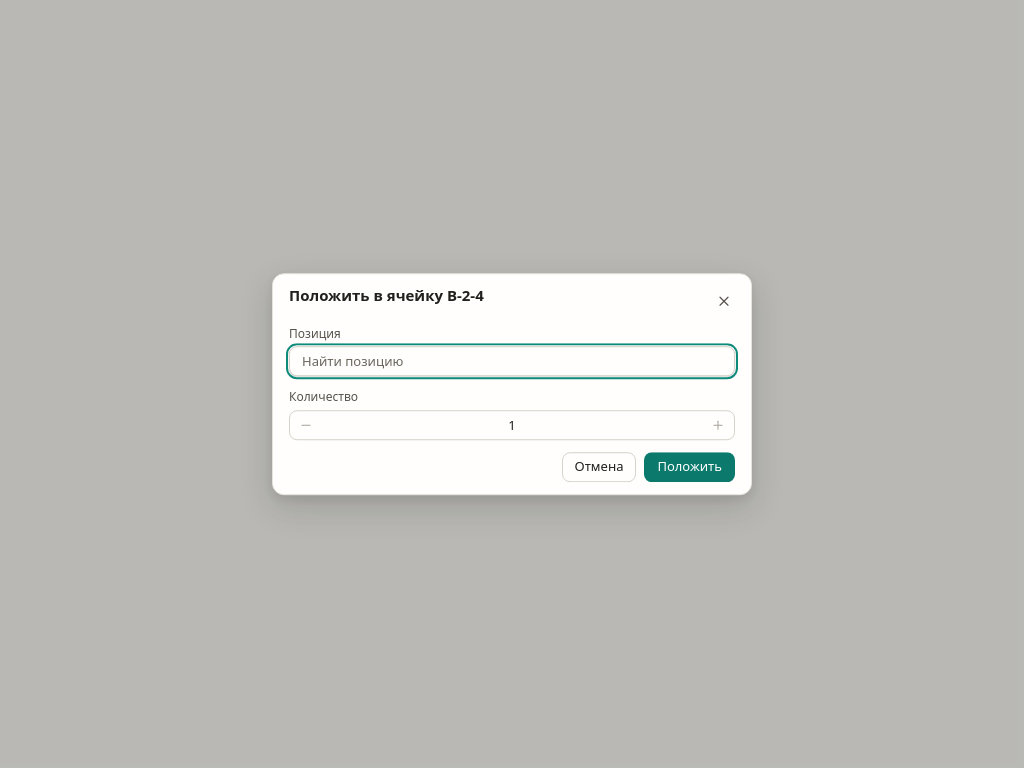
it: PlaceDialog of a cell › does not lay a position whose name was edited after it was chosen
Type "диспл" into the dropdown labelled "Позиция".
click(512, 361); type("диспл")  # box [302, 347, 722, 375]
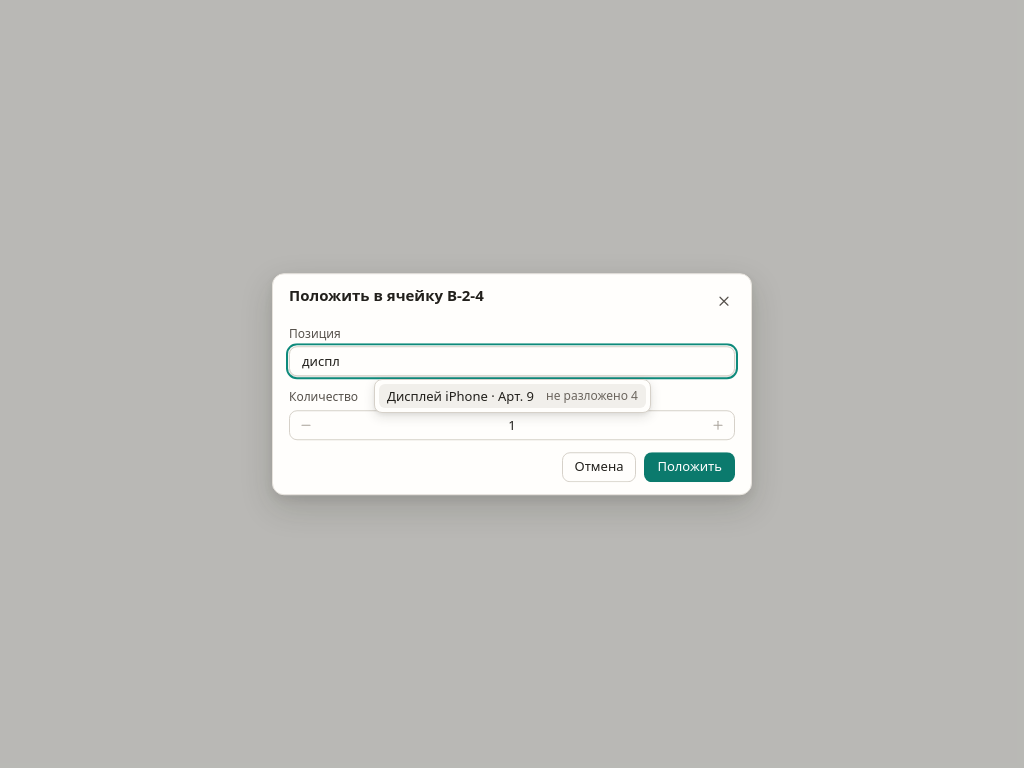
Click the option "Дисплей iPhone · Арт. 9 не разложено 4".
click(512, 396)  # box [379, 384, 646, 408]
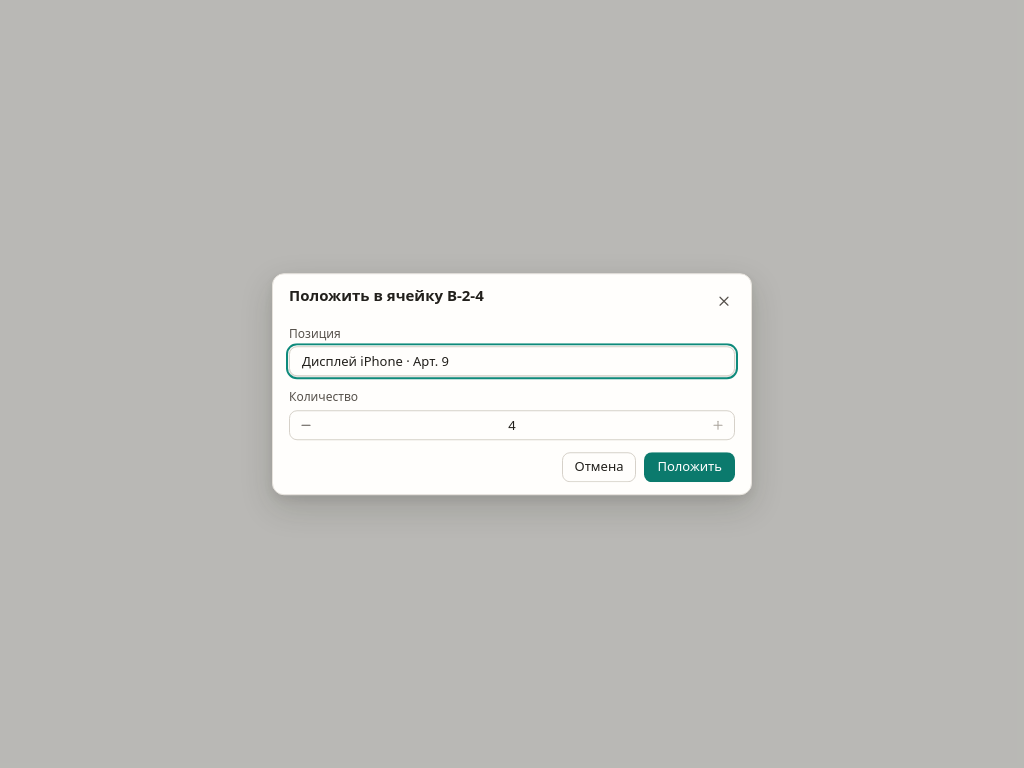
Type "x" into the dropdown labelled "Позиция".
click(512, 361); type("x")  # box [302, 347, 722, 375]
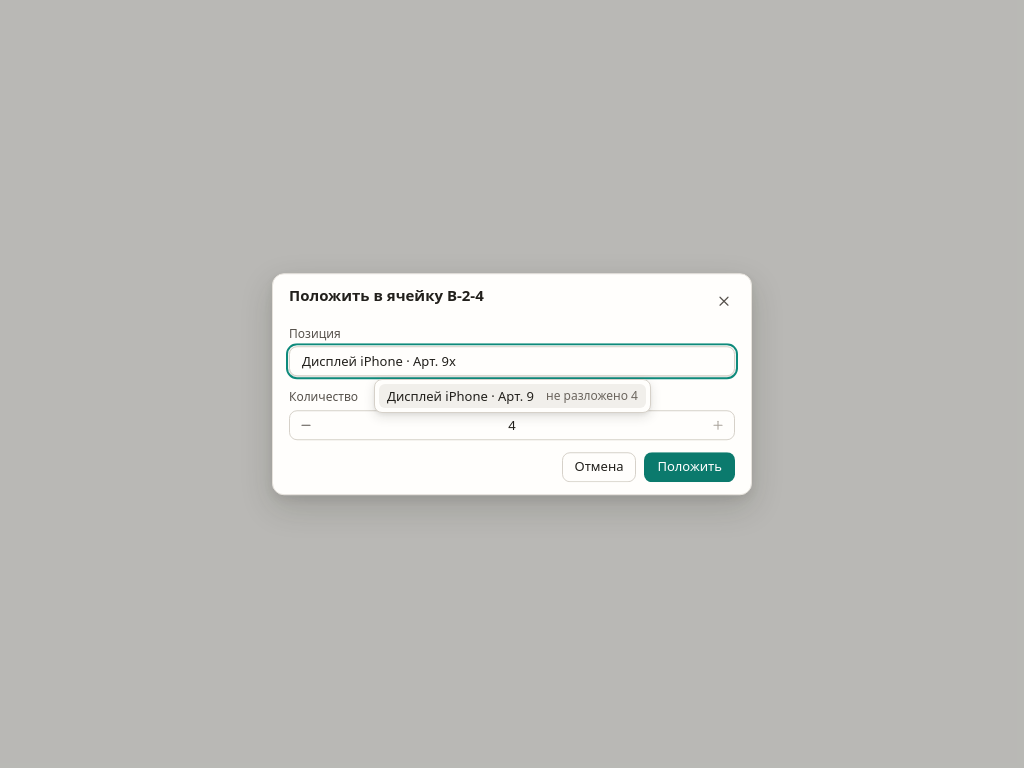
Click the button "Положить".
click(690, 467)  # box [644, 452, 735, 482]
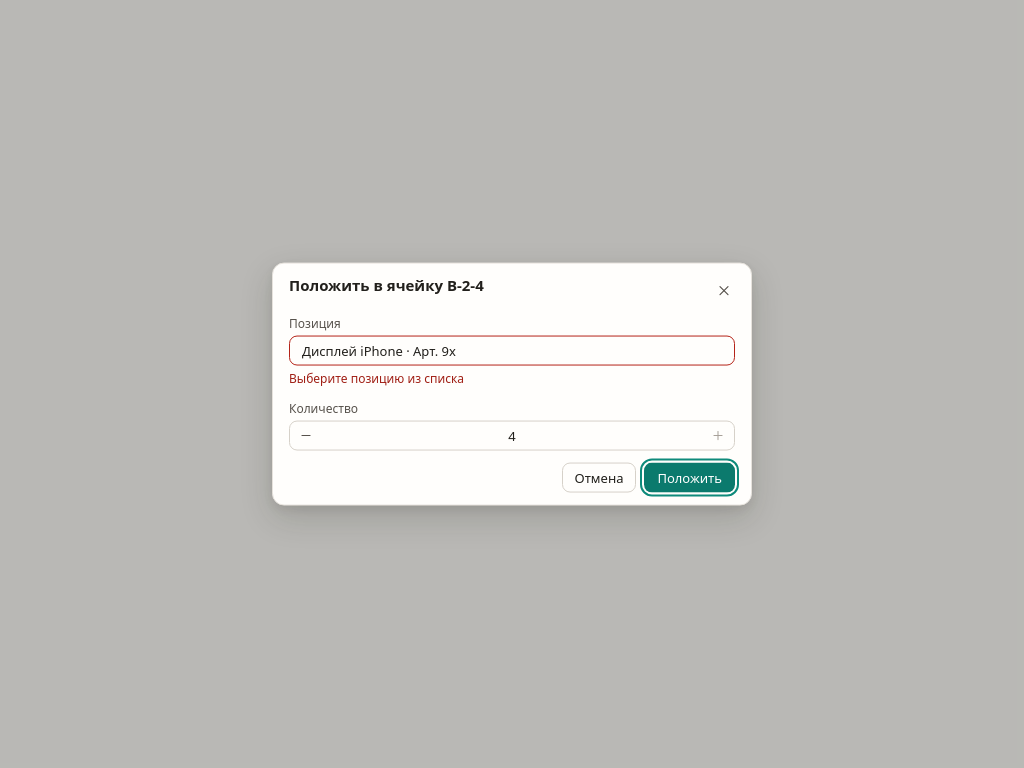
Expected: the text "Выберите позицию из списка" is shown, [289, 370, 464, 387]
